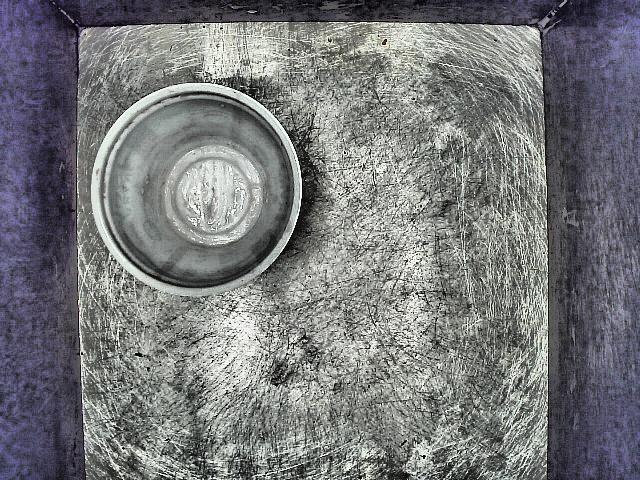Plastic: (91, 79, 324, 295)
